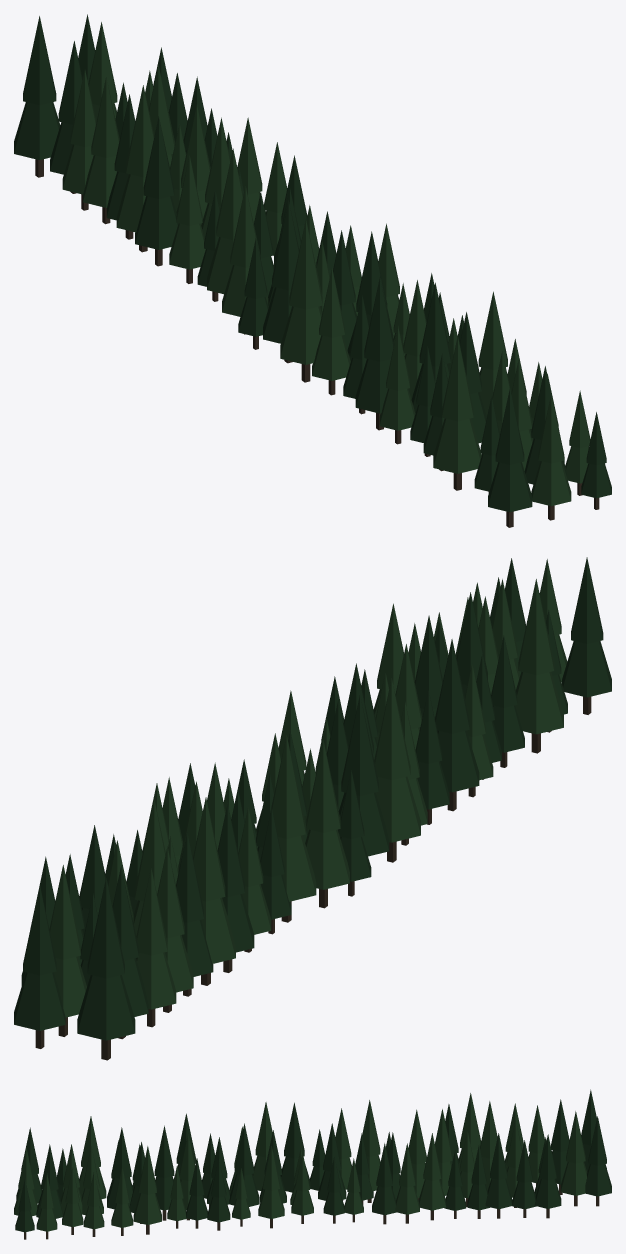
The model's file is forest_edge_12.glb.
3 renders of one model, top to bottom at view 1: azimuth 30°, elevation 25°; view 2: azimuth 150°, elevation 25°; view 3: azimuth 270°, elevation 25°, orthographic. The views are drawn at different scales.
Visible parts, largest first — view 1: chunk_0_0; view 2: chunk_0_0; view 3: chunk_0_0.
Part boxes in pixels (left/top/right/bottom): chunk_0_0: left=14, top=14, right=611, bottom=527; chunk_0_0: left=14, top=557, right=611, bottom=1060; chunk_0_0: left=14, top=1089, right=611, bottom=1239.
Bounding box in the file's own units: 25.51 × 31.2 × 143.
